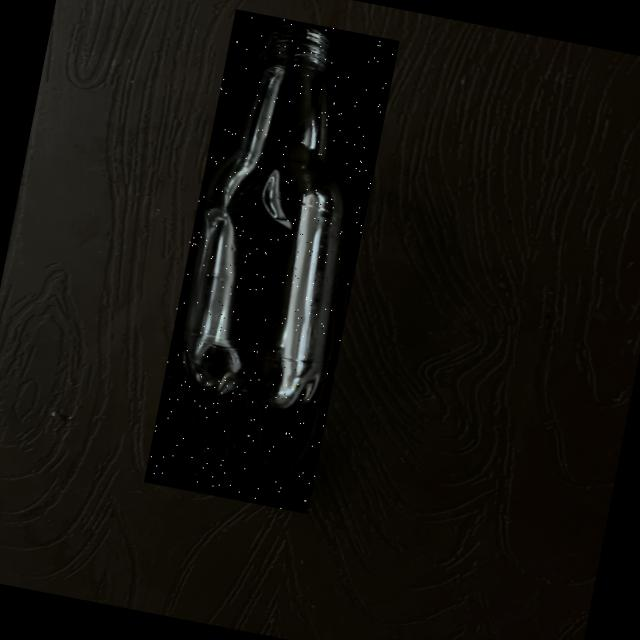PET_ClearBottle: (143, 9, 400, 514)
